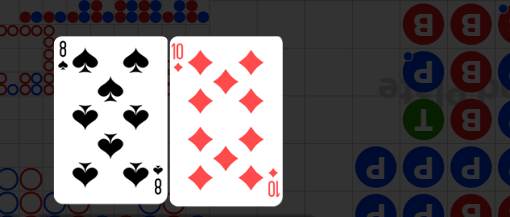10D: (267, 166, 280, 198)
8S: (57, 40, 70, 73)
